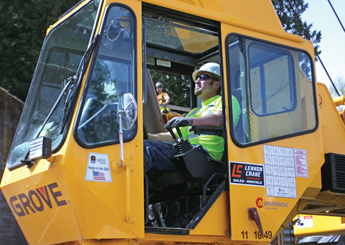crane-operator: (162, 55, 222, 156), (186, 55, 222, 156)
